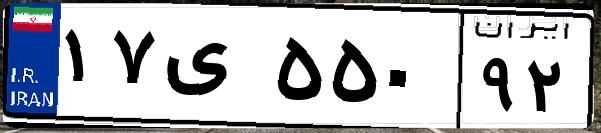0: (385, 28, 445, 110)
1: (57, 26, 110, 100)
2: (525, 38, 570, 115)
5: (270, 28, 330, 110), (330, 28, 385, 110)
7: (110, 28, 158, 98)
9: (475, 38, 525, 113)
ی: (158, 20, 270, 120)
